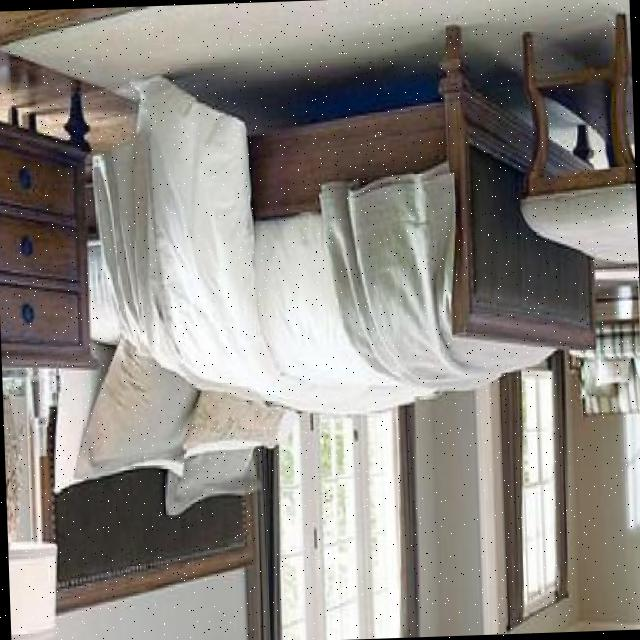Bed: (0, 0, 615, 636)
